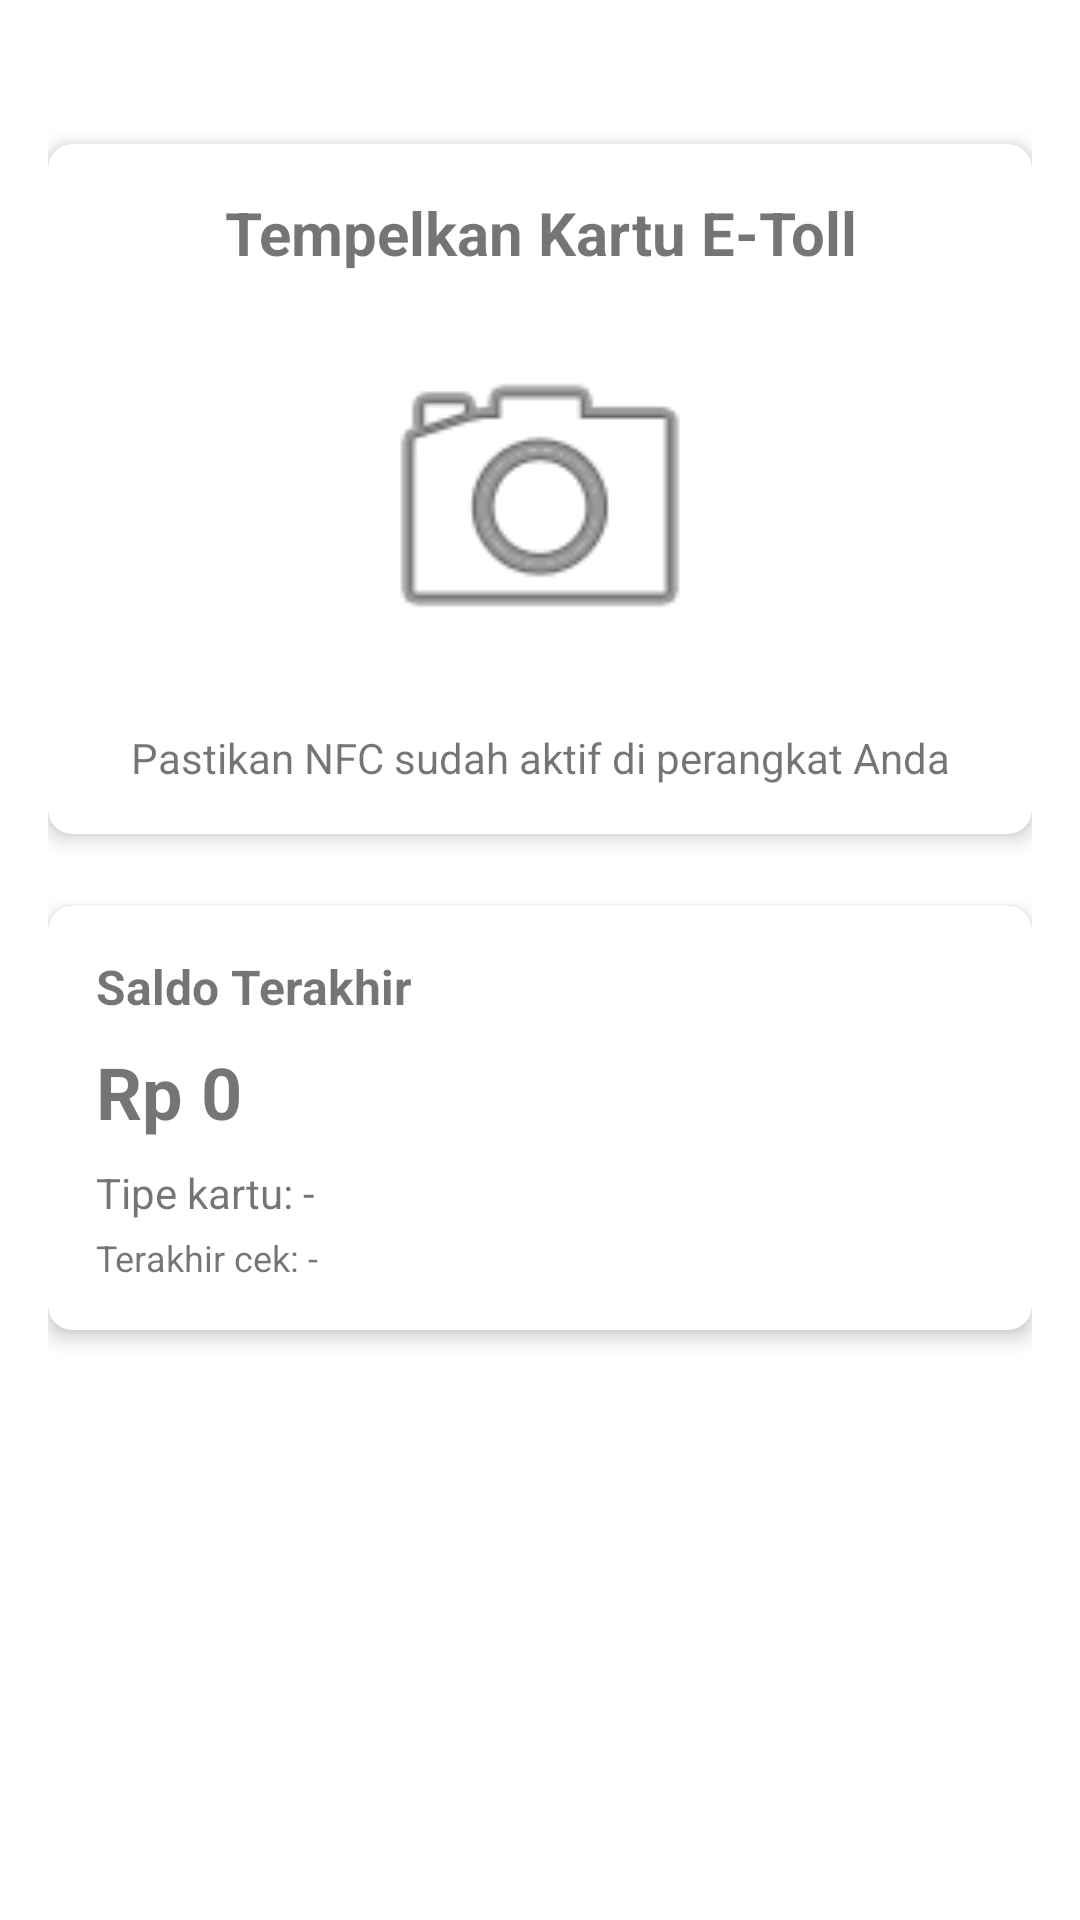

Screen size 1080w x 1920h. Icon name, then its box in pixels as region(x1, y1, x2, y2):
camera: region(401, 384, 679, 606)
